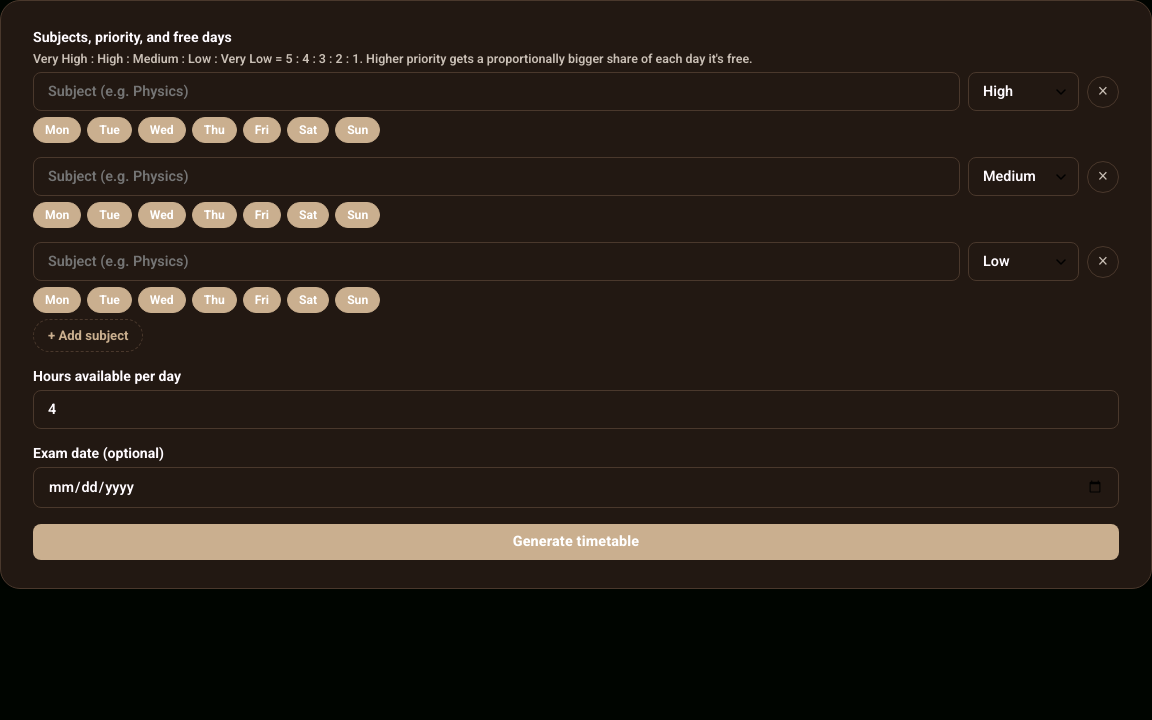
Test: TimetableGenerator — priority-weighted split › lets a subject row's priority be changed and the removed count enforces at least one row
Click the button named "Remove" at {"x": 1103, "y": 262}, box [1087,246,1119,278]
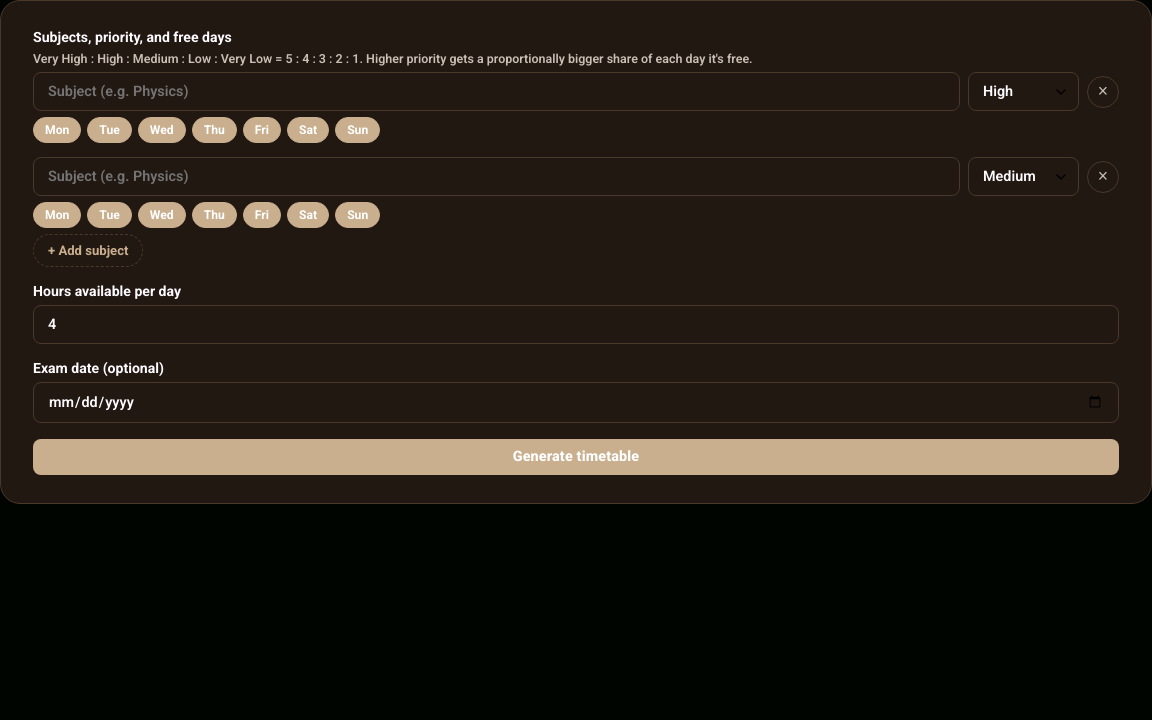
Click the button named "Remove" at {"x": 1103, "y": 176}, box [1087,160,1119,192]
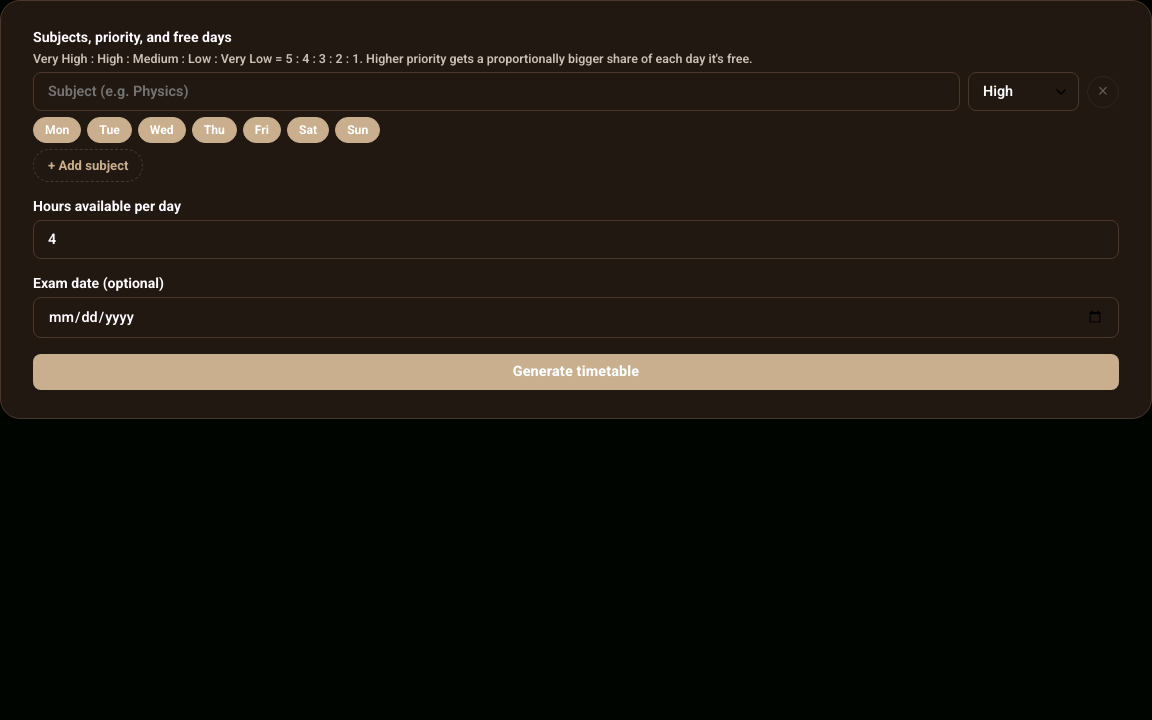
expect the button named "Remove" is disabled: met, box [1087,76,1119,108]
